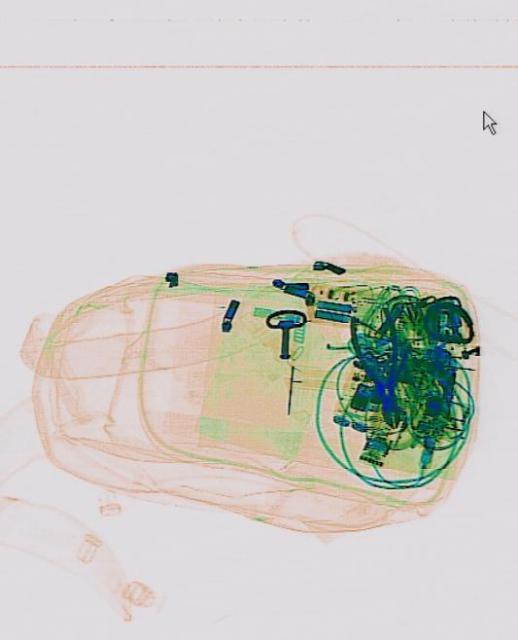Pliers: (343, 304, 414, 434)
